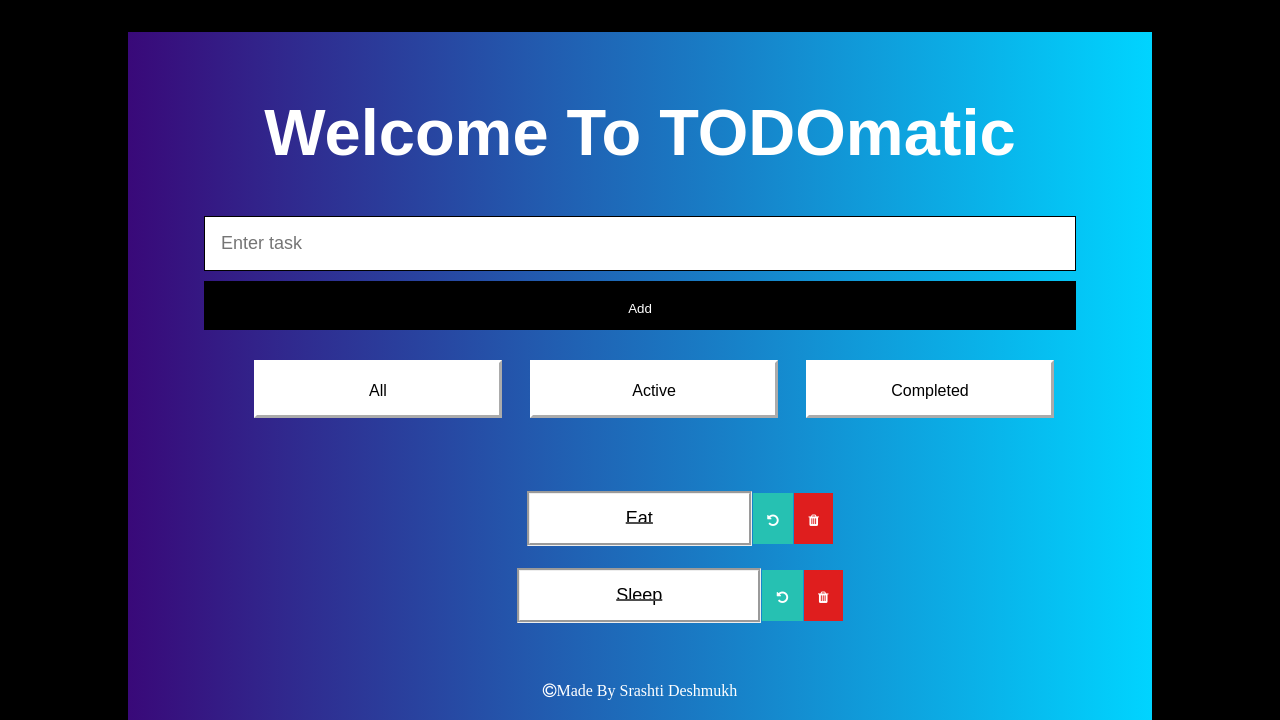
Test: Checking all functionalities › Should filter the active and incomplete tasks › Should show all the active tasks
Click the button "Active" at (654, 389), box [530,360,778,418]
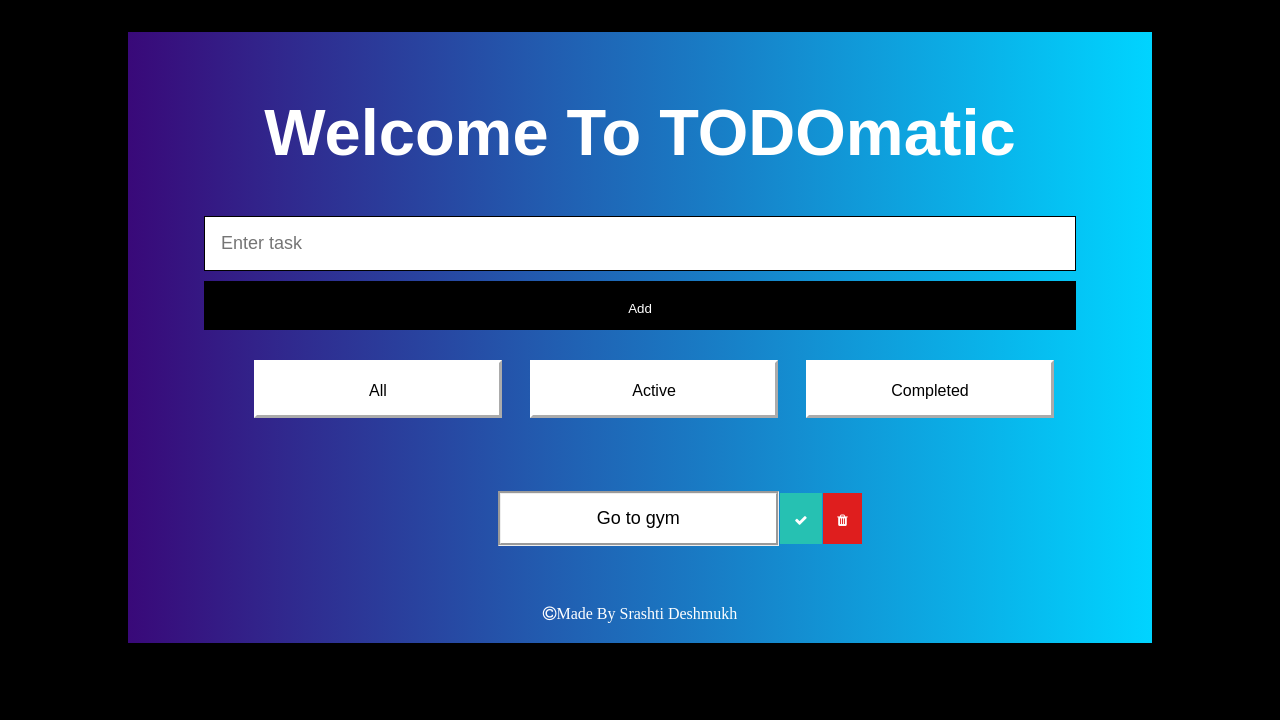
Now the number of lists with class "taskList" is 1, box [498,491,862,546]
